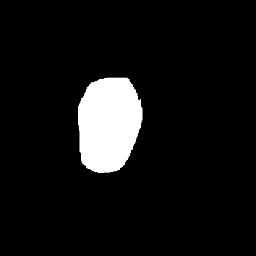mass: (81, 83, 139, 183)
